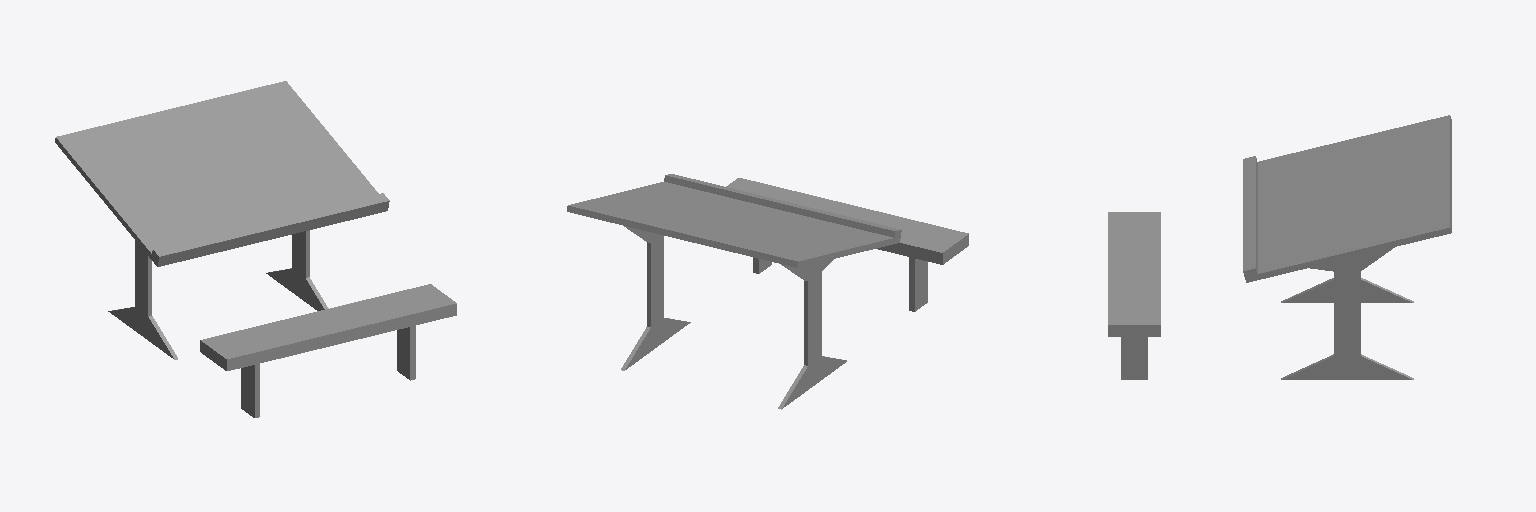
The model's file is Schulbank.obj.
3 views of the same model, side by side, from view 1: azimuth 30°, elevation 25°; view 2: azimuth 150°, elevation 25°; view 3: azimuth 270°, elevation 25° (orthographic).
Parts seen in each view (by area): view 1: Cube; view 2: Cube; view 3: Cube.
Boxes of the visible parts, box(x1,y1,x2,y2) form: Cube: box(55, 81, 456, 417); Cube: box(567, 174, 968, 409); Cube: box(1108, 115, 1451, 379).
Size of the model in its own units: 2 by 1.41 by 2.59.